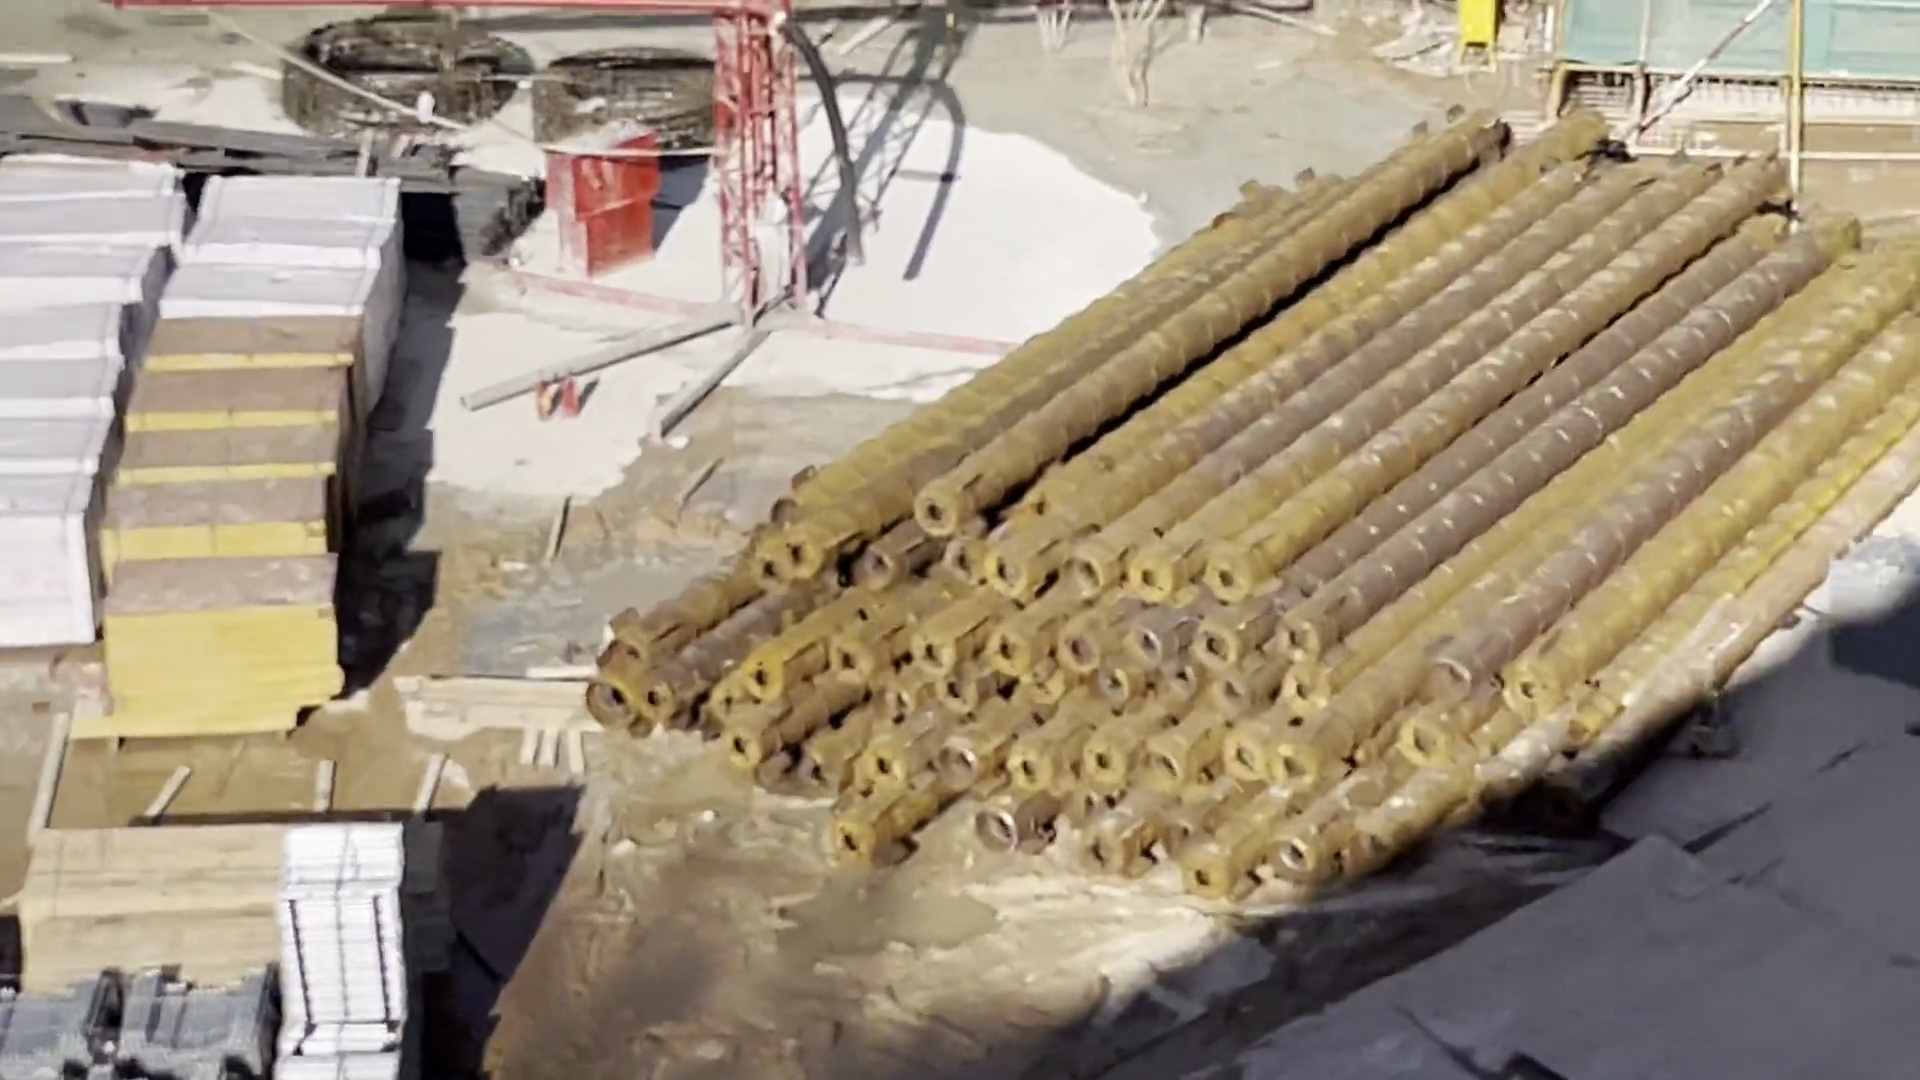board: (113, 331, 344, 723), (36, 829, 265, 981)
ebox: (1455, 1, 1501, 66)
rebar: (154, 115, 527, 268)
scaffold: (273, 829, 407, 1080), (17, 984, 277, 1080)
